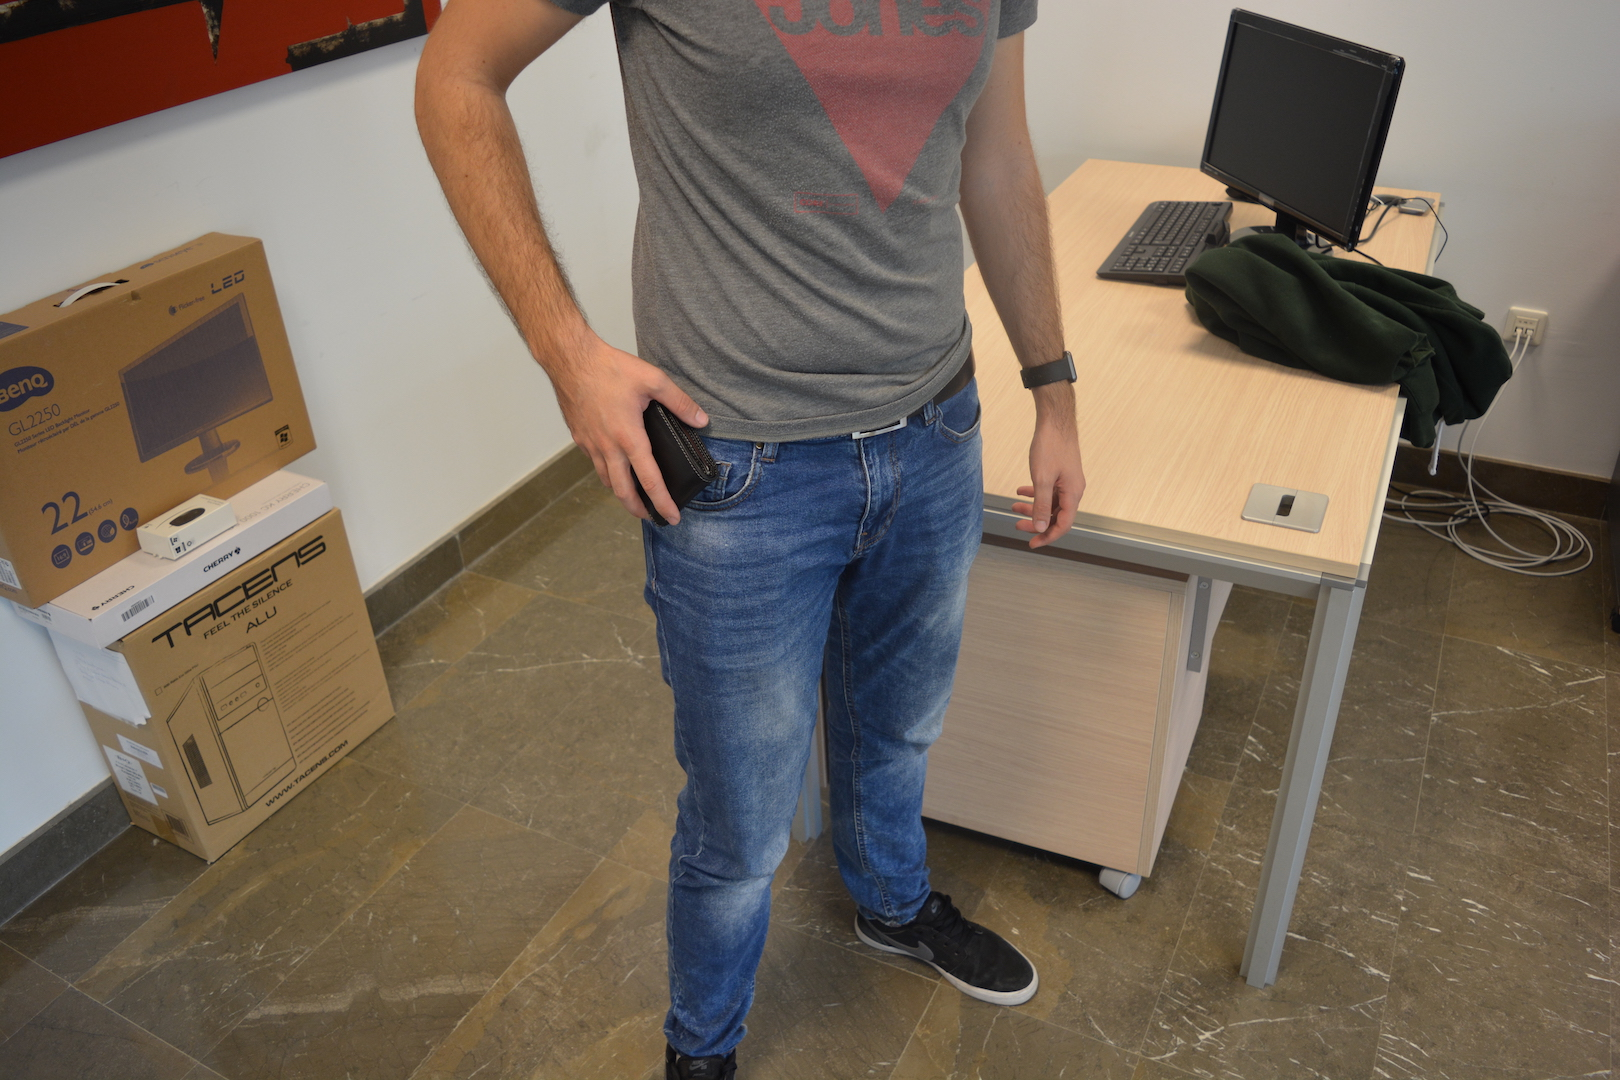monedero: (629, 398, 720, 530)
